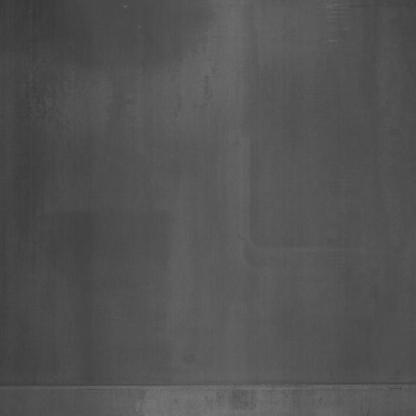welding_line: (0, 375, 414, 398)
